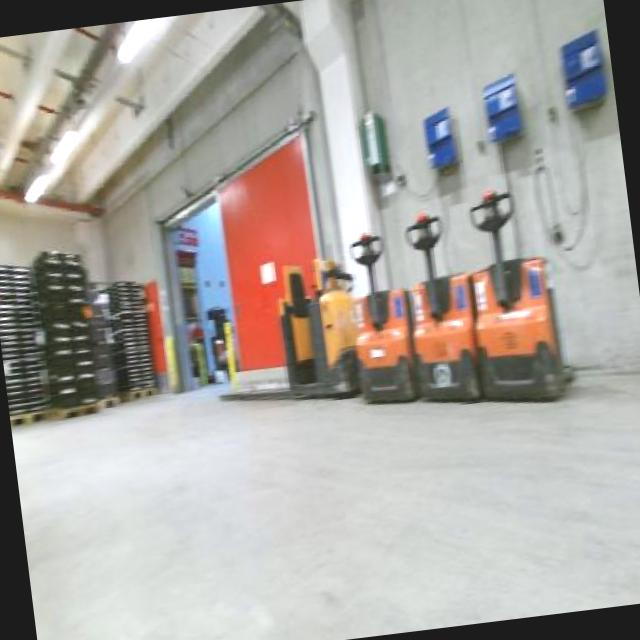pallet: (52, 397, 120, 427), (128, 382, 166, 403)
